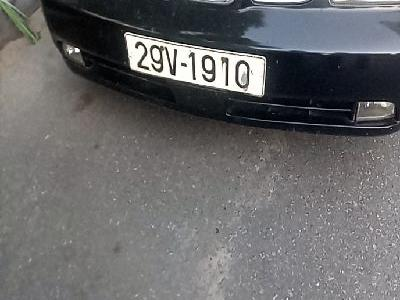number: (125, 30, 266, 97)
